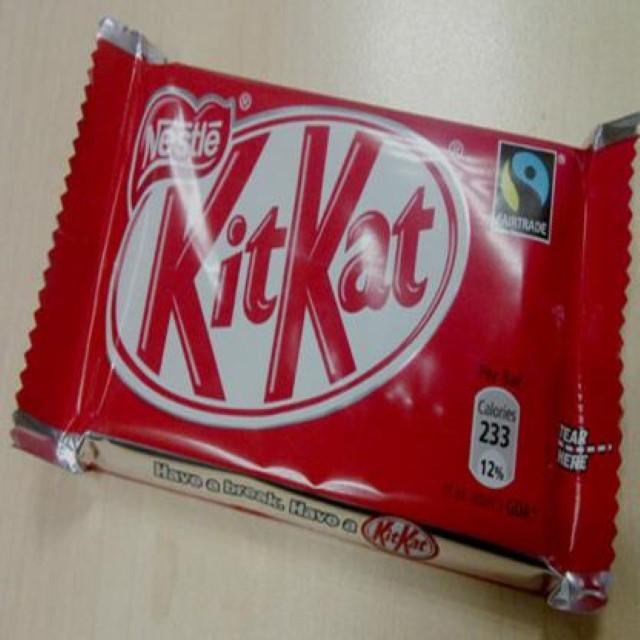kitkat_chocolate: (80, 35, 622, 580)
